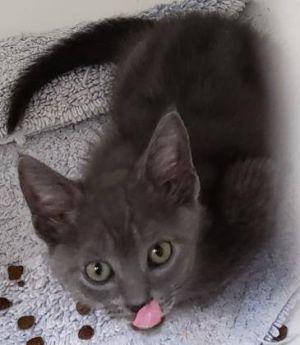rblue: (3, 107, 211, 345)
